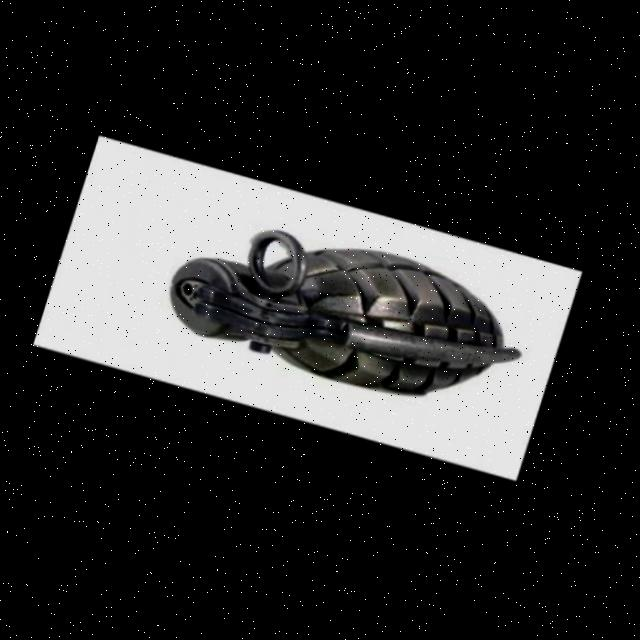grenade: (130, 184, 538, 433)
